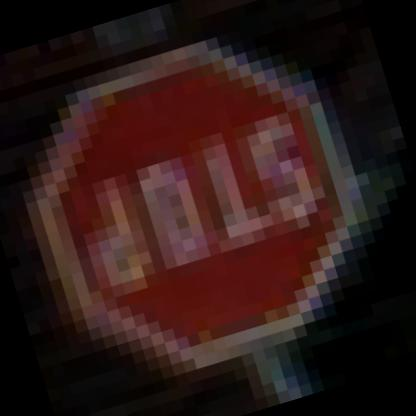stop: (0, 0, 411, 379)
